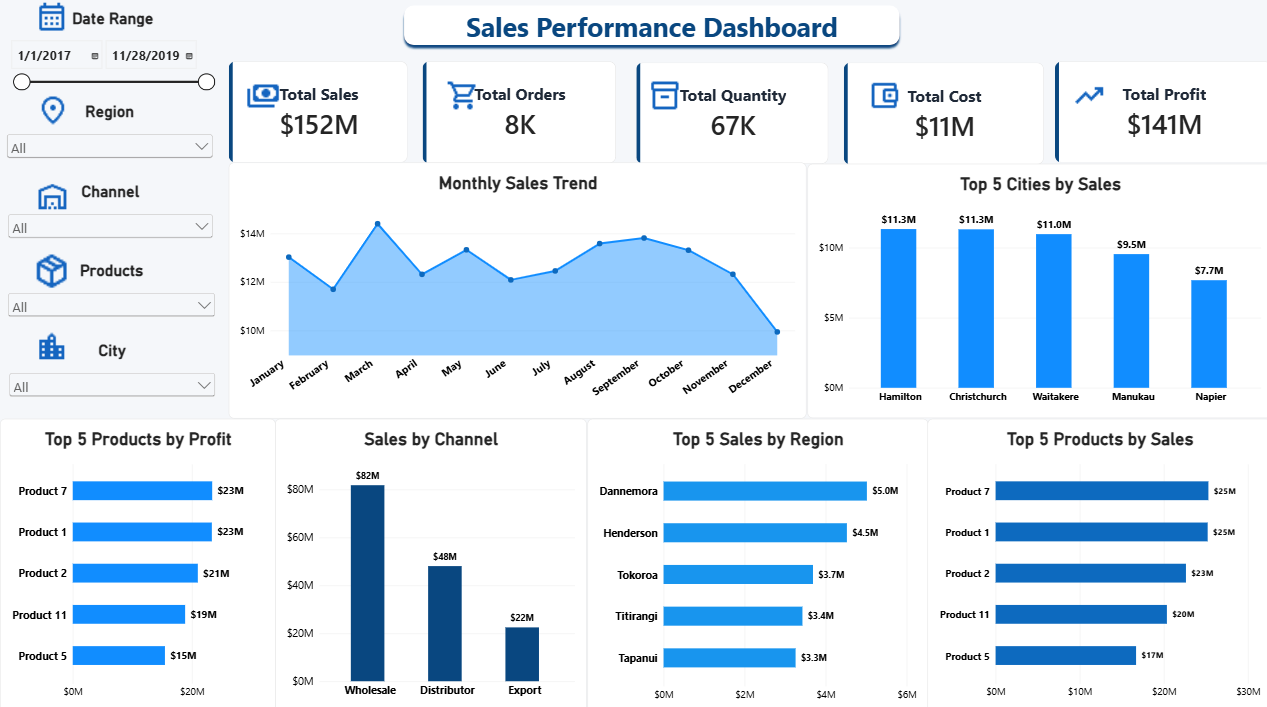

The page's visual inventory and layout, read from the dashboard file:
{"tool":"powerbi","page":{"name":"Page 1","canvas":[1920,1080],"ordinal":0},"visuals":[{"type":"cardVisual","fields":{"Data":["Sales Orders.Total Sales"]},"box":[346,92,270,153.3],"z":0},{"type":"cardVisual","fields":{"Data":["Sales Orders.Total Orders"]},"box":[638,92,292,154],"z":1000},{"type":"cardVisual","fields":{"Data":["Sales Orders.Total Quantity"]},"box":[960,94,290,153.3],"z":2000},{"type":"cardVisual","fields":{"Data":["Sales Orders.Total Cost"]},"box":[1274,94,302,154],"z":3000},{"type":"cardVisual","fields":{"Data":["Sales Orders.Total Profit"]},"box":[1592,92,328.3,153.3],"z":4000},{"type":"slicer","title":"Date Range","fields":{"Values":["Sales Orders.OrderDate"]},"box":[10,14,322,154],"z":5000},{"type":"slicer","title":"Region","fields":{"Values":["Regions.Suburb"]},"box":[6,154,320,122],"z":6000},{"type":"slicer","title":"Channel","fields":{"Values":["Sales Orders.Channel"]},"box":[8,276,318.3,90],"z":7000},{"type":"slicer","title":"Products","fields":{"Values":["Products.Product Name"]},"box":[8,394,322,104],"z":8000},{"type":"slicer","title":"City","fields":{"Values":["Regions.City"]},"box":[10,516,320,90],"z":9000},{"type":"areaChart","title":"Monthly Sales Trend","fields":{"Category":["Sales Orders.OrderDate.Variation.Date Hierarchy.Year","Sales Orders.OrderDate.Variation.Date Hierarchy.Month"],"Y":["Sales Orders.Total Sales"]},"box":[346,246,872,386],"z":10000},{"type":"clusteredColumnChart","title":"Sales by Channel","fields":{"Category":["Sales Orders.Channel"],"Y":["Sales Orders.Total Sales"]},"box":[416,632,470,444],"z":11000},{"type":"clusteredBarChart","title":"Top 5 Sales by Region","fields":{"Category":["Regions.Suburb"],"Y":["Sales Orders.Total Sales"]},"box":[886,632,514,448],"z":12000},{"type":"clusteredBarChart","title":"Top 5 Products by Sales","fields":{"Category":["Products.Product Name"],"Y":["Sales Orders.Total Sales"]},"box":[1400,632,520,444],"z":13000},{"type":"clusteredColumnChart","title":"Top 5 Cities by Sales","fields":{"Category":["Regions.City"],"Y":["Sales Orders.Total Sales"]},"box":[1218,248,702,384],"z":14000},{"type":"clusteredBarChart","title":"Top 5 Products by Profit","fields":{"Category":["Products.Product Name"],"Y":["Sales Orders.Total Profit"]},"box":[0,632,416,444],"z":15000},{"type":"shape","box":[602,0,764,76],"z":16000},{"type":"image","box":[362,118,70,52],"z":16001},{"type":"image","box":[652,118,92,50],"z":16002},{"type":"image","box":[960,118,86,50],"z":16003},{"type":"image","box":[1288,118,92,50],"z":16004},{"type":"image","box":[1598,118,92,50],"z":16005},{"type":"image","box":[34,142,92,50],"z":16006},{"type":"image","box":[34,272,90,50],"z":16007},{"type":"image","box":[32,0,92,50],"z":16008},{"type":"image","box":[32,380,92,60],"z":16009},{"type":"image","box":[32,498,92,50],"z":16010}]}

Visuals, with their boxes in screenshot pixels (x1, y1, x2, y2), scaled from the page's 1920x1080 canvas onto the 1267x707 screenshot:
cardVisual - Sales Orders.Total Sales: (x1=228, y1=60, x2=406, y2=161)
cardVisual - Sales Orders.Total Orders: (x1=421, y1=60, x2=614, y2=161)
cardVisual - Sales Orders.Total Quantity: (x1=634, y1=62, x2=825, y2=162)
cardVisual - Sales Orders.Total Cost: (x1=841, y1=62, x2=1040, y2=162)
cardVisual - Sales Orders.Total Profit: (x1=1051, y1=60, x2=1266, y2=161)
"Date Range" slicer: (x1=7, y1=9, x2=219, y2=110)
"Region" slicer: (x1=4, y1=101, x2=215, y2=181)
"Channel" slicer: (x1=5, y1=181, x2=215, y2=240)
"Products" slicer: (x1=5, y1=258, x2=218, y2=326)
"City" slicer: (x1=7, y1=338, x2=218, y2=397)
"Monthly Sales Trend" areaChart: (x1=228, y1=161, x2=804, y2=414)
"Sales by Channel" clusteredColumnChart: (x1=275, y1=414, x2=585, y2=704)
"Top 5 Sales by Region" clusteredBarChart: (x1=585, y1=414, x2=924, y2=706)
"Top 5 Products by Sales" clusteredBarChart: (x1=924, y1=414, x2=1266, y2=704)
"Top 5 Cities by Sales" clusteredColumnChart: (x1=804, y1=162, x2=1266, y2=414)
"Top 5 Products by Profit" clusteredBarChart: (x1=0, y1=414, x2=275, y2=704)
shape: (x1=397, y1=0, x2=901, y2=50)
image: (x1=239, y1=77, x2=285, y2=111)
image: (x1=430, y1=77, x2=491, y2=110)
image: (x1=634, y1=77, x2=690, y2=110)
image: (x1=850, y1=77, x2=911, y2=110)
image: (x1=1055, y1=77, x2=1115, y2=110)
image: (x1=22, y1=93, x2=83, y2=126)
image: (x1=22, y1=178, x2=82, y2=211)
image: (x1=21, y1=0, x2=82, y2=33)
image: (x1=21, y1=249, x2=82, y2=288)
image: (x1=21, y1=326, x2=82, y2=359)
